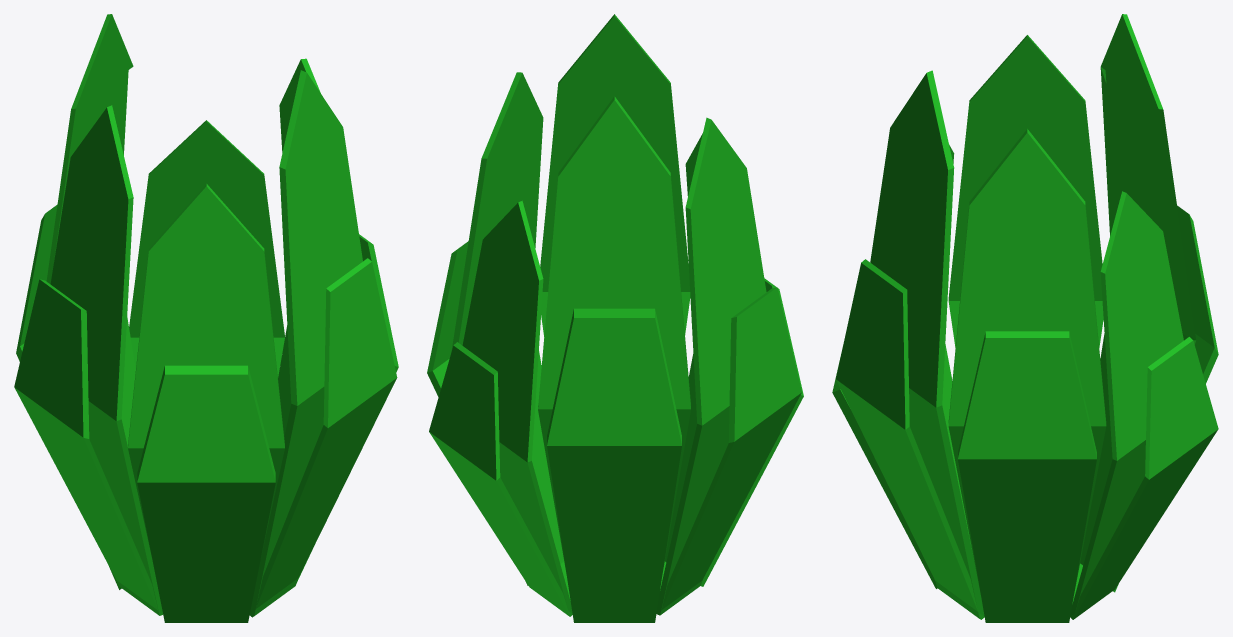
File: lettuceOutside.obj
3 views of the same model, side by side, from view 1: azimuth 30°, elevation 25°; view 2: azimuth 150°, elevation 25°; view 3: azimuth 270°, elevation 25° (orthographic). The views are drawn at different scales.
Parts seen in each view (by area): view 1: cabbage; view 2: cabbage; view 3: cabbage.
Boxes of the visible parts, x1,y1,x2,y2 form: cabbage: [14, 14, 398, 622]; cabbage: [427, 14, 803, 622]; cabbage: [832, 14, 1218, 622].
Size of the model in its own units: 0.197 by 0.3309 by 0.2082.
